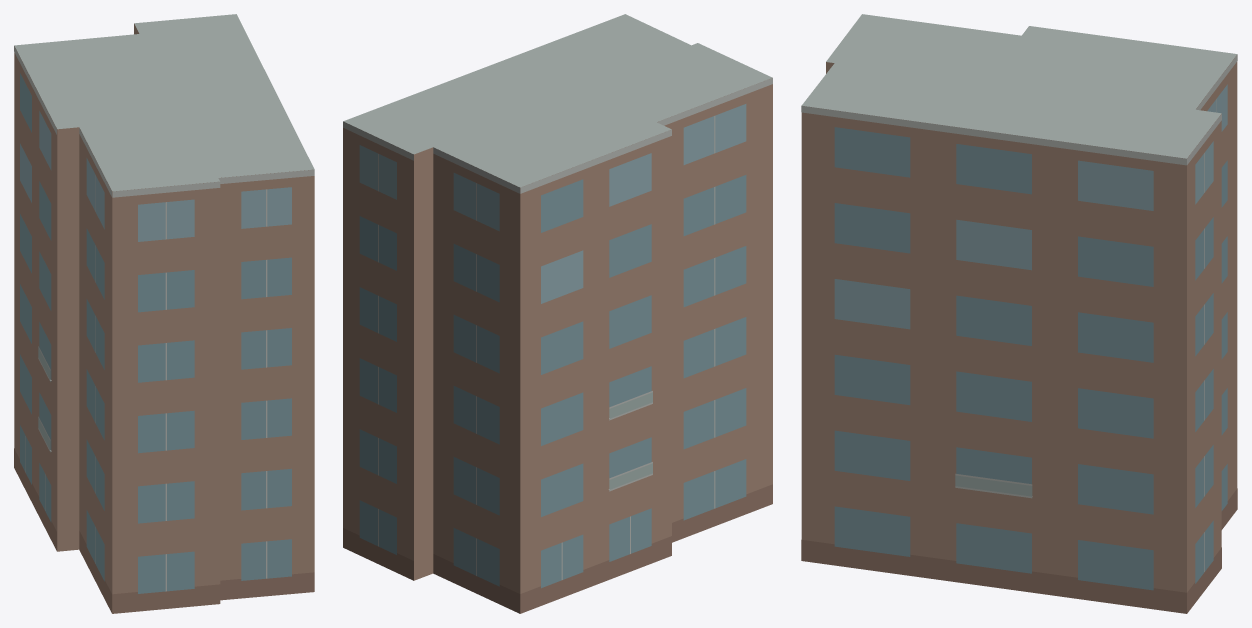
The model's file is survey-upis-32518599.glb.
3 renders of one model, left to right at view 1: azimuth 30°, elevation 25°; view 2: azimuth 150°, elevation 25°; view 3: azimuth 270°, elevation 25°, orthographic. The views are drawn at different scales.
Parts seen in each view (by area): view 1: survey-upis-32518599.tmp; view 2: survey-upis-32518599.tmp; view 3: survey-upis-32518599.tmp.
Part boxes in pixels (x1,y1,x2,y2): survey-upis-32518599.tmp: (14, 14, 314, 613); survey-upis-32518599.tmp: (343, 14, 772, 613); survey-upis-32518599.tmp: (801, 14, 1237, 613).
Size of the model in its own units: 11.19 by 16.4 by 14.25.
